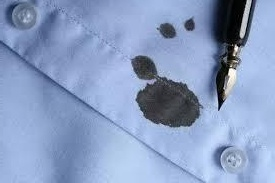ink: (138, 77, 200, 127), (130, 57, 155, 74), (160, 24, 175, 38), (185, 19, 195, 31)
